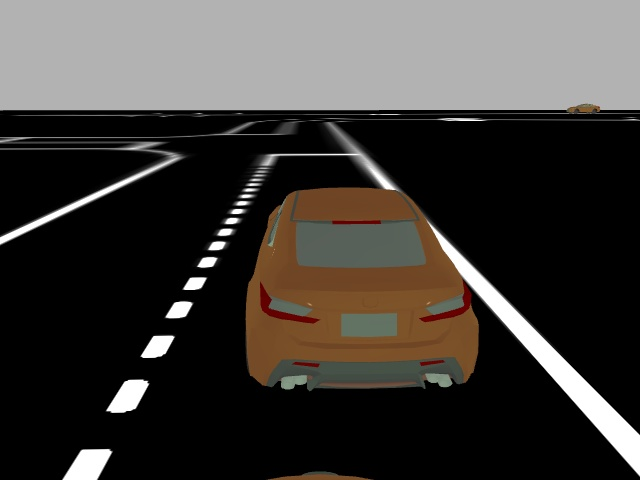obstacle_car: (244, 185, 482, 392)
